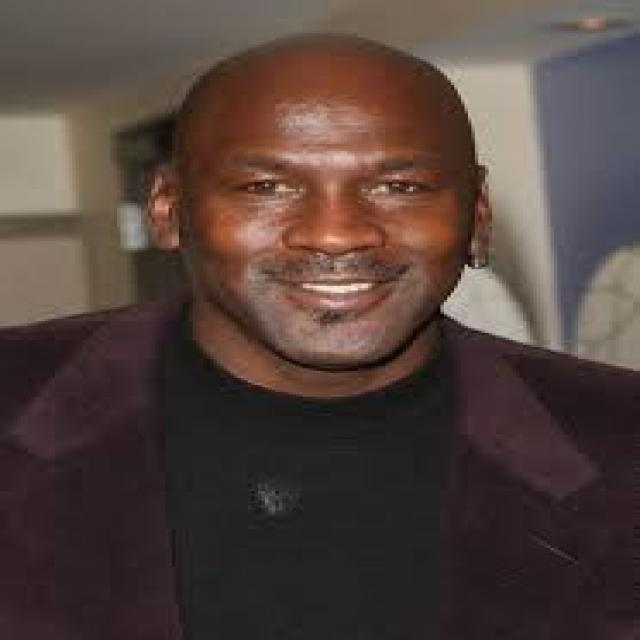bald: (155, 29, 494, 192)
